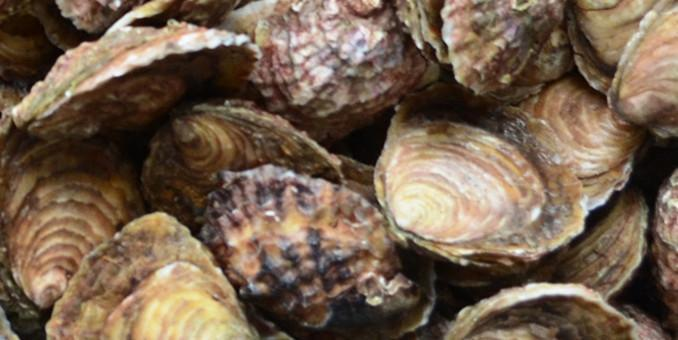3: (284, 157, 438, 340), (416, 0, 563, 96), (26, 0, 136, 48)
Oyster-Closed: (377, 84, 589, 272), (196, 166, 418, 331), (216, 0, 436, 147), (7, 20, 259, 141), (44, 213, 264, 340), (144, 100, 344, 237), (0, 134, 148, 302), (553, 181, 648, 306), (439, 283, 641, 340), (566, 0, 676, 94), (608, 0, 678, 136)
Oyster-Open: (508, 73, 647, 212), (490, 26, 573, 97), (650, 172, 678, 333)
